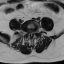CCS_normal: (30, 30, 32, 38)
LFS_severe_stenosis: (33, 30, 35, 34)
LLS_severe_stenosis: (32, 30, 33, 34)
RFS_severe_stenosis: (27, 30, 29, 35)
RLS_severe_stenosis: (29, 30, 30, 35)
